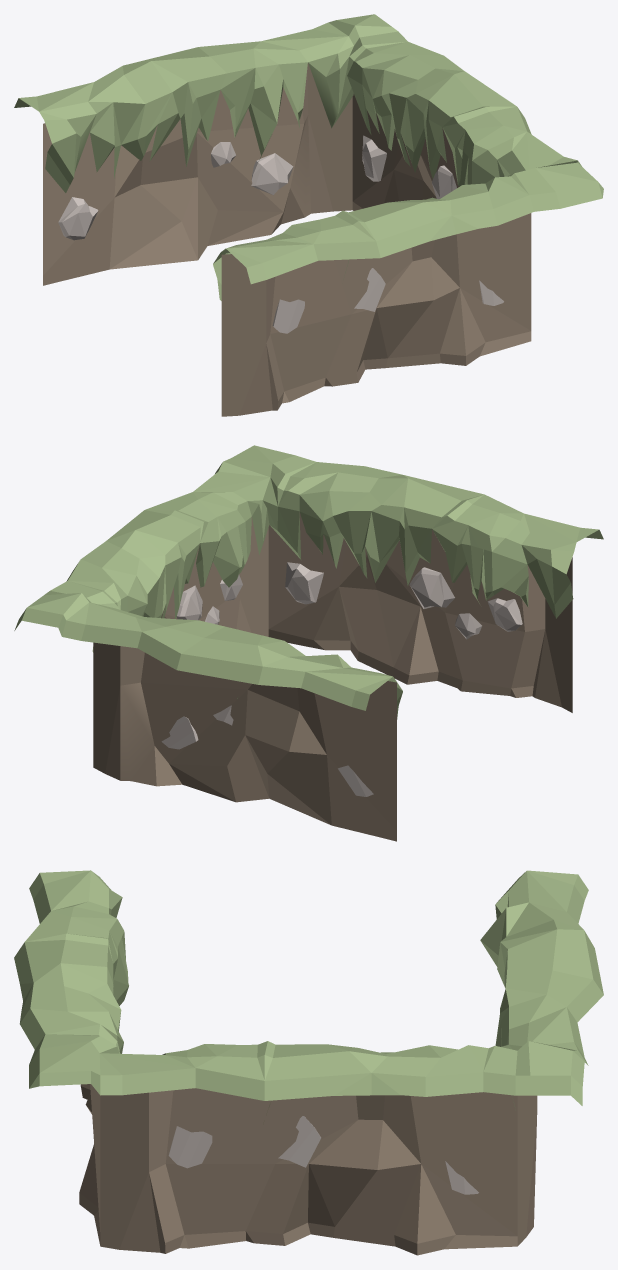
File: ER_Terrain_1x1_Grass3Sided_Inverted_Halfsize_001_B1.fbx
3 renders of one model, top to bottom at view 1: azimuth 30°, elevation 25°; view 2: azimuth 150°, elevation 25°; view 3: azimuth 270°, elevation 25°, orthographic. The views are drawn at different scales.
Visible parts, largest first — view 1: ER_Terrain_1x1_Grass3Sided_Inverted_Halfsize_001_B1; view 2: ER_Terrain_1x1_Grass3Sided_Inverted_Halfsize_001_B1; view 3: ER_Terrain_1x1_Grass3Sided_Inverted_Halfsize_001_B1.
Boxes of the visible parts, x1,y1,x2,y2 form: ER_Terrain_1x1_Grass3Sided_Inverted_Halfsize_001_B1: [14, 14, 603, 416]; ER_Terrain_1x1_Grass3Sided_Inverted_Halfsize_001_B1: [14, 445, 603, 841]; ER_Terrain_1x1_Grass3Sided_Inverted_Halfsize_001_B1: [14, 870, 603, 1255].
Size of the model in its own units: 1.21 by 0.5617 by 1.41.
